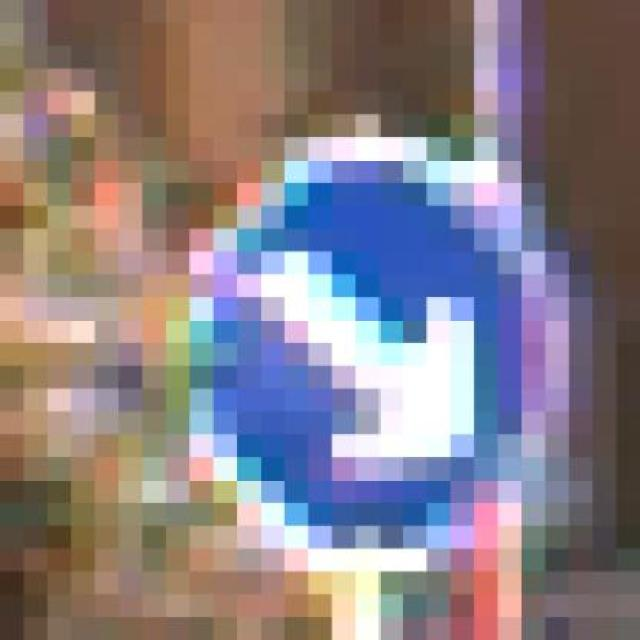Keep-Right: (142, 91, 616, 594)
